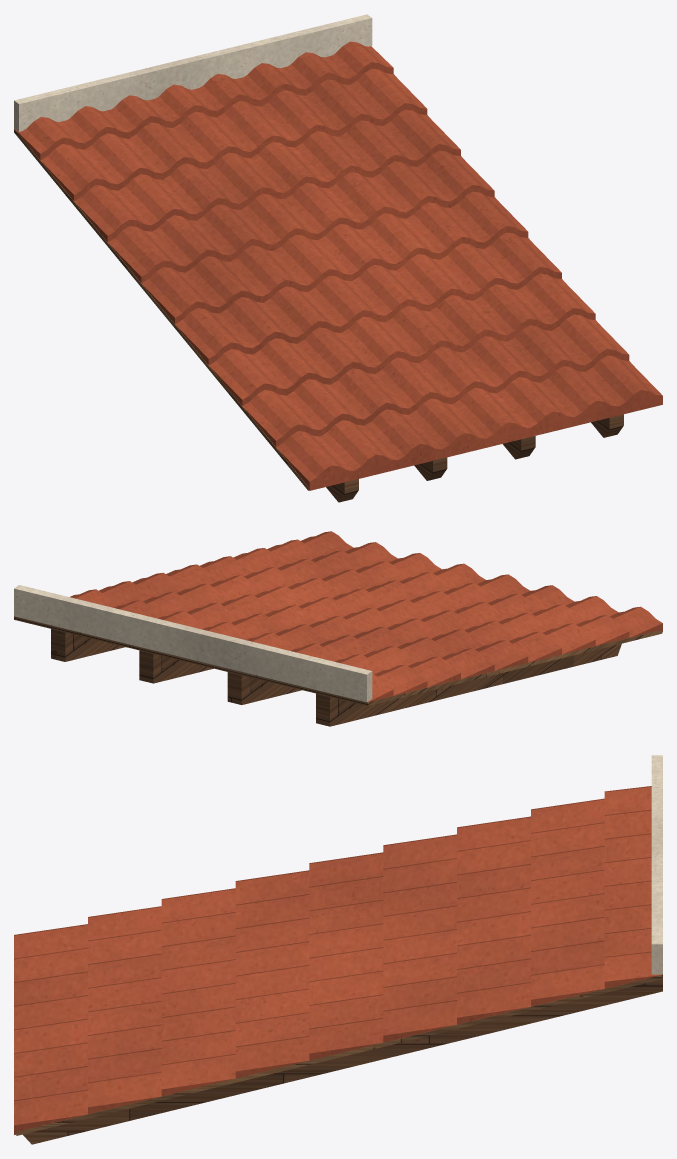
The model's file is arcade_roof.glb.
3 renders of one model, top to bottom at view 1: azimuth 30°, elevation 25°; view 2: azimuth 150°, elevation 25°; view 3: azimuth 270°, elevation 25°, orthographic. The views are drawn at different scales.
Parts seen in each view (by area): view 1: arcade_roof_tile_clay, arcade_roof_render, arcade_roof_wood, arcade_roof_planks; view 2: arcade_roof_tile_clay, arcade_roof_render, arcade_roof_wood, arcade_roof_planks; view 3: arcade_roof_tile_clay, arcade_roof_wood, arcade_roof_planks, arcade_roof_render.
Part boxes in pixels (<box>): arcade_roof_tile_clay: <box>15,41,662,490</box>; arcade_roof_render: <box>14,14,372,131</box>; arcade_roof_wood: <box>326,414,623,502</box>; arcade_roof_planks: <box>14,74,630,490</box>; arcade_roof_tile_clay: <box>70,531,662,702</box>; arcade_roof_render: <box>14,585,372,702</box>; arcade_roof_wood: <box>51,629,621,726</box>; arcade_roof_planks: <box>14,616,662,705</box>; arcade_roof_tile_clay: <box>14,786,660,1134</box>; arcade_roof_wood: <box>23,974,662,1144</box>; arcade_roof_planks: <box>16,974,661,1135</box>; arcade_roof_render: <box>651,755,662,974</box>.
Bounding box in the file's own units: 2 × 1.09 × 2.9.
4 materials, 4 textured.
